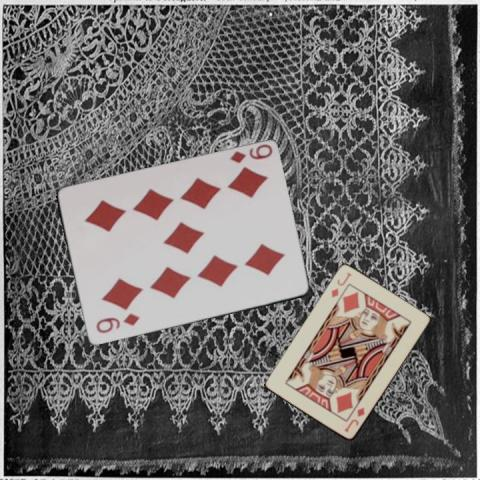9d: (93, 311, 141, 335), (227, 142, 274, 165)
Jd: (341, 405, 366, 434), (328, 270, 353, 299)
